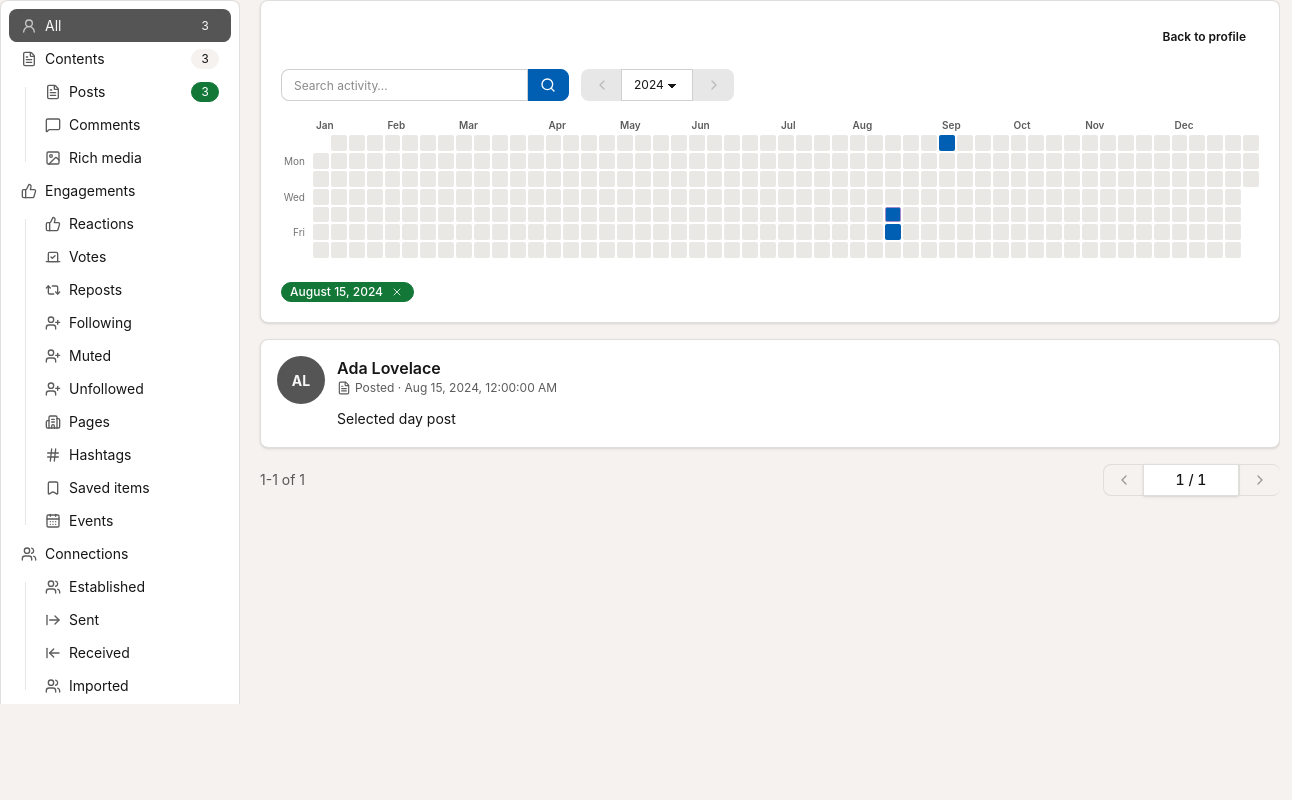
Test: ActivityPage › shows a removable localized day badge below the mosaic
Expected: the text "Next day post" is not shown
Click the button named "Clear August 15, 2024 filter" at (397, 292), box x1=389 y1=284 x2=405 y2=300
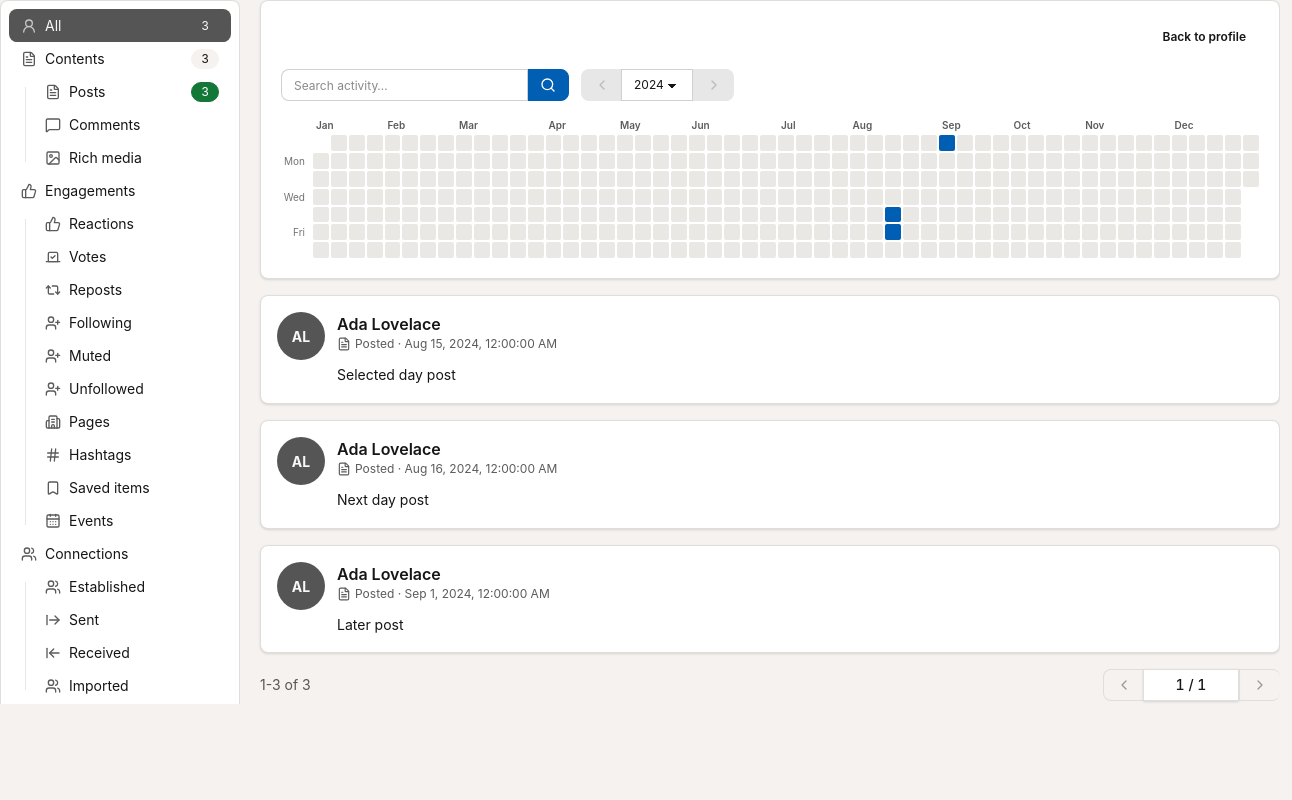
Expected: the text "Next day post" is shown, x1=337 y1=491 x2=429 y2=508
Expected: the text "Later post" is shown, x1=337 y1=616 x2=404 y2=633
